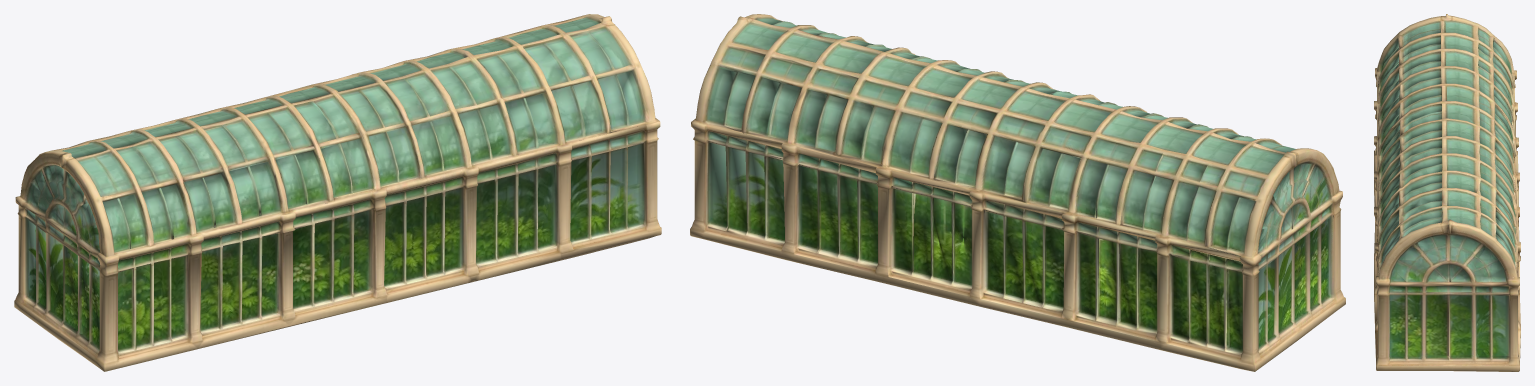
File: greenhouse.glb
The picture shows the model from 3 angles, left to right: view 1: azimuth 30°, elevation 25°; view 2: azimuth 150°, elevation 25°; view 3: azimuth 270°, elevation 25°; orthographic projection. The views are drawn at different scales.
Visible parts, largest first — view 1: tripo_node_a46cb8f6-c1e8-4b49-bb2e-f4c5e3721575; view 2: tripo_node_a46cb8f6-c1e8-4b49-bb2e-f4c5e3721575; view 3: tripo_node_a46cb8f6-c1e8-4b49-bb2e-f4c5e3721575.
Part boxes in pixels (<box>): tripo_node_a46cb8f6-c1e8-4b49-bb2e-f4c5e3721575: <box>14,14,661,371</box>; tripo_node_a46cb8f6-c1e8-4b49-bb2e-f4c5e3721575: <box>690,14,1345,371</box>; tripo_node_a46cb8f6-c1e8-4b49-bb2e-f4c5e3721575: <box>1374,14,1520,371</box>.
Size of the model in its own units: 120 by 38.28 by 34.52.
Materials: 1 (1 with a texture image).
